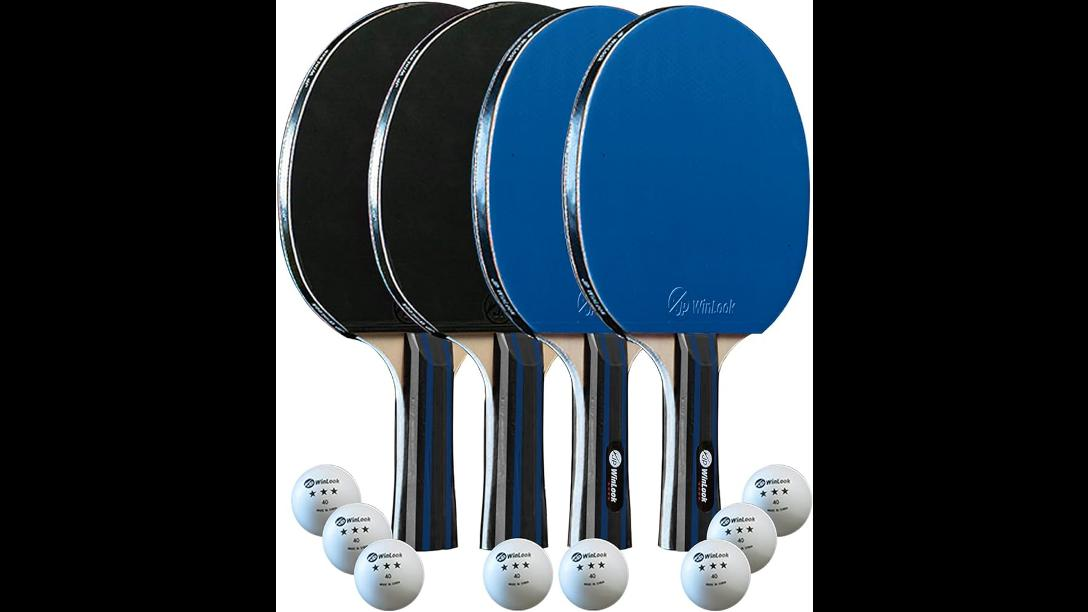Table-Tennis-Ball: (481, 538, 552, 610), (559, 538, 629, 610), (289, 464, 359, 534), (322, 504, 392, 574), (680, 540, 750, 610), (354, 538, 422, 610), (707, 502, 775, 572), (744, 465, 810, 537)
